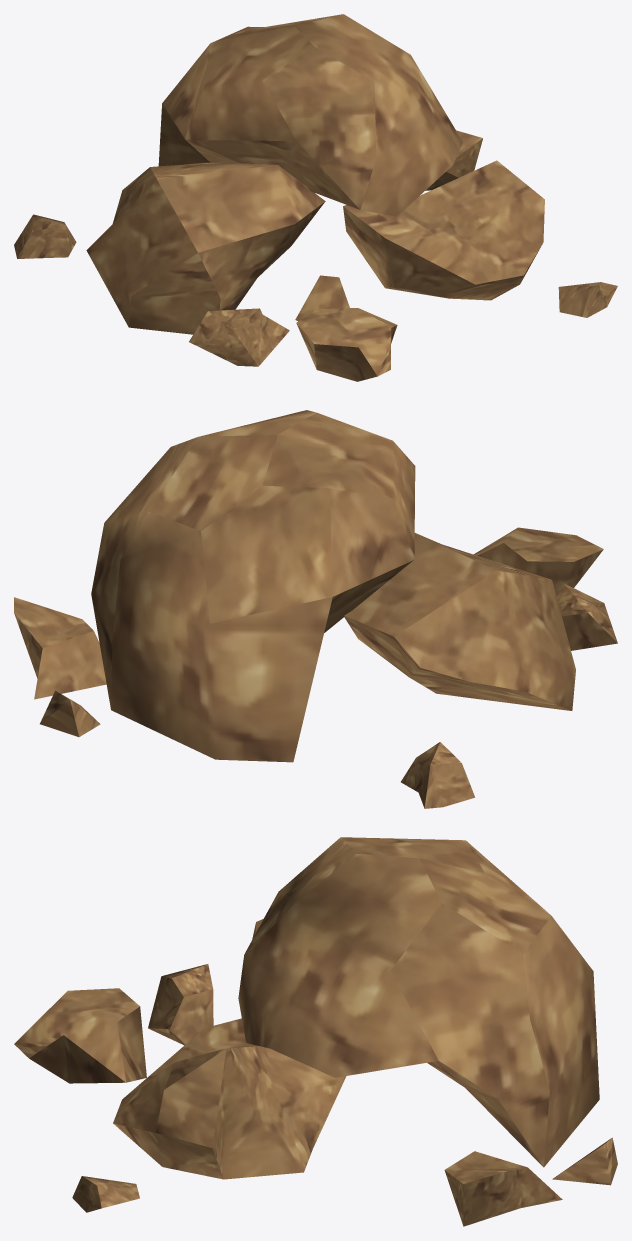
File: Rock_d_m01.fbx
3 views of the same model, one above another, from view 1: azimuth 30°, elevation 25°; view 2: azimuth 150°, elevation 25°; view 3: azimuth 270°, elevation 25° (orthographic). The views are drawn at different scales.
Visible parts, largest first — view 1: Rock_d_m01; view 2: Rock_d_m01; view 3: Rock_d_m01.
Part boxes in pixels (x1,y1,x2,y2): Rock_d_m01: (14, 14, 617, 381); Rock_d_m01: (14, 410, 617, 808); Rock_d_m01: (14, 837, 617, 1226).
Bounding box in the file's own units: 2.63 × 1.3 × 2.72.
